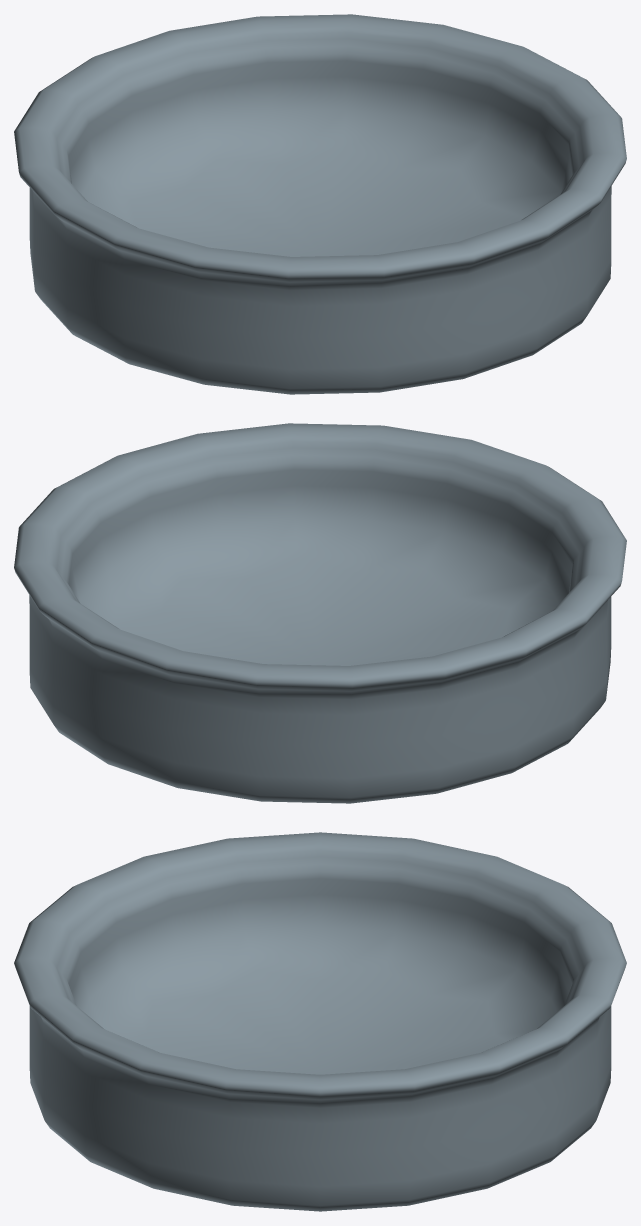
File: CakePan.fbx
3 views of the same model, one above another, from view 1: azimuth 30°, elevation 25°; view 2: azimuth 150°, elevation 25°; view 3: azimuth 270°, elevation 25° (orthographic).
Parts seen in each view (by area): view 1: CakePan; view 2: CakePan; view 3: CakePan.
Boxes of the visible parts, bbox=[...] form: CakePan: bbox=[14, 14, 626, 394]; CakePan: bbox=[14, 423, 626, 803]; CakePan: bbox=[14, 832, 626, 1211].
Bounding box in the file's own units: 17.29 × 17.29 × 4.25.
Materials: 1 (1 with a texture image).
